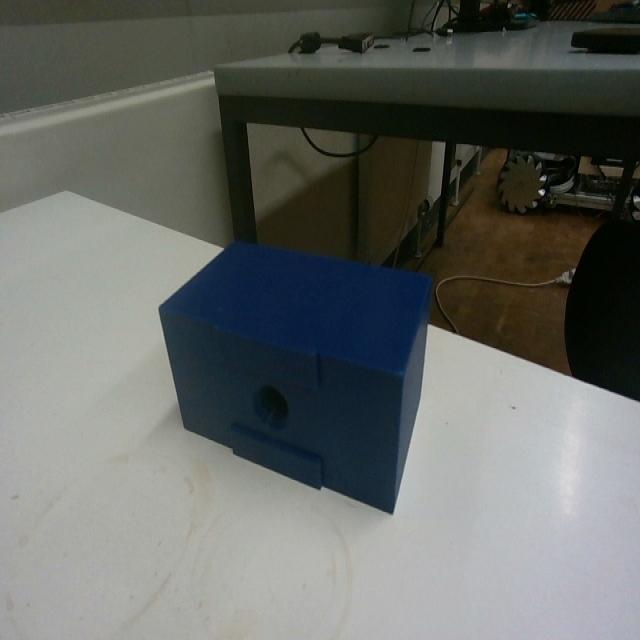Blue Cuboid: (156, 235, 434, 514)
